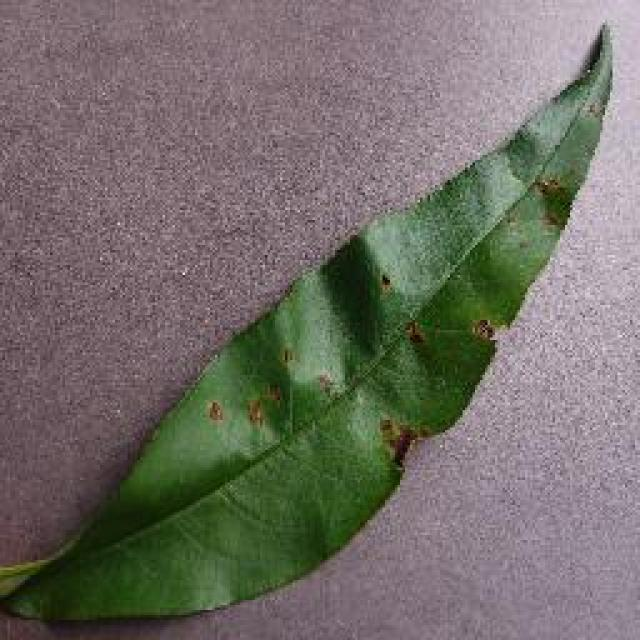Peach_Bacterial_Spot: (202, 257, 516, 463)
